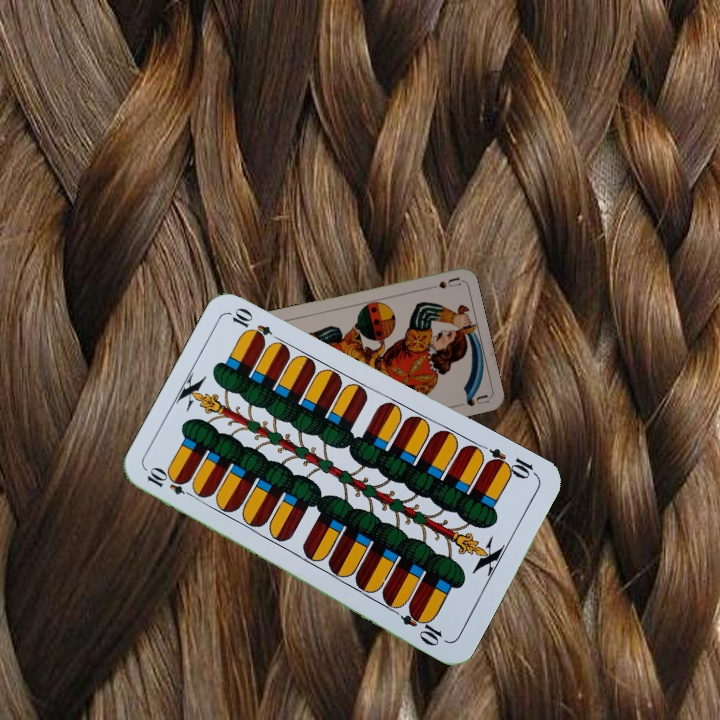E10: (482, 444, 540, 482), (143, 465, 200, 501)
SU: (421, 273, 462, 292)
